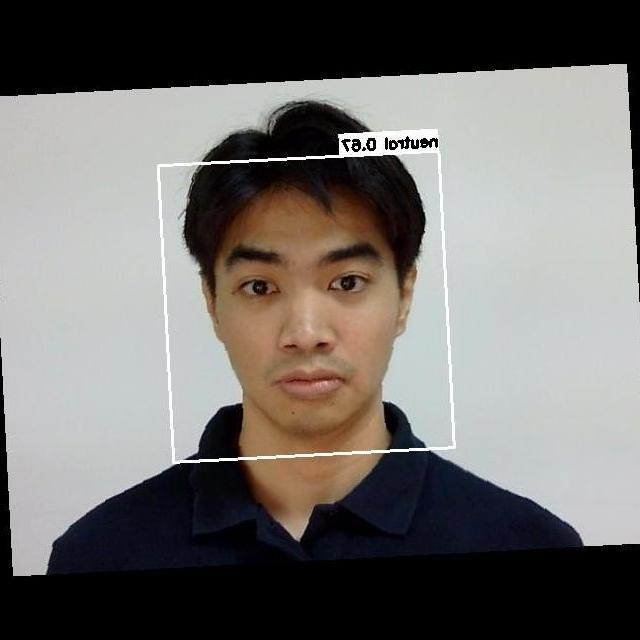Fear: (194, 211, 411, 411)
